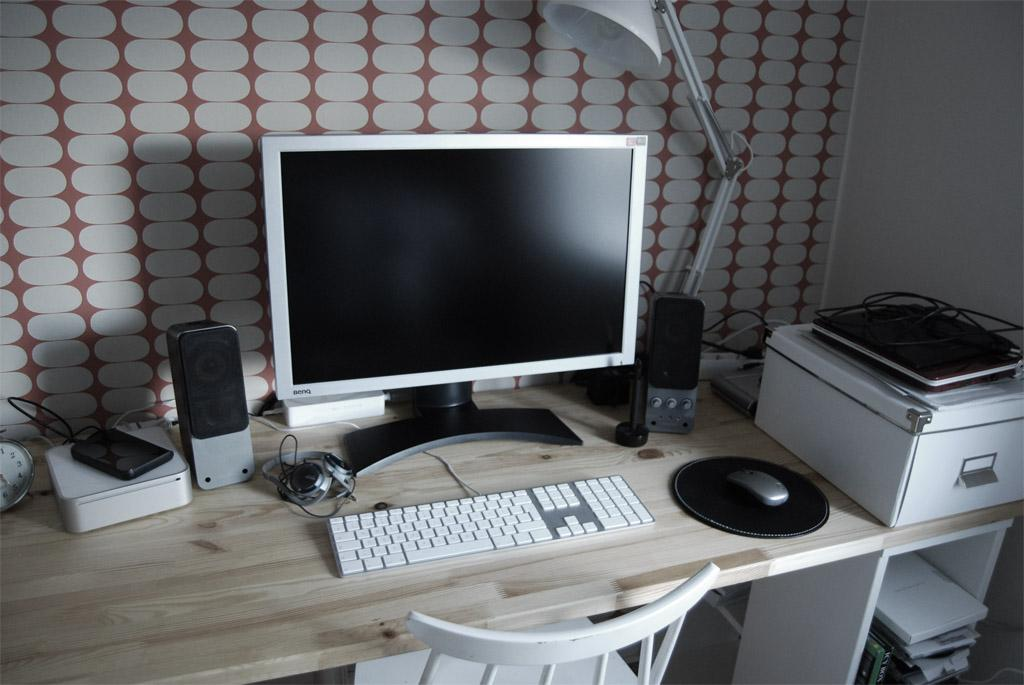computer: (260, 131, 649, 476)
